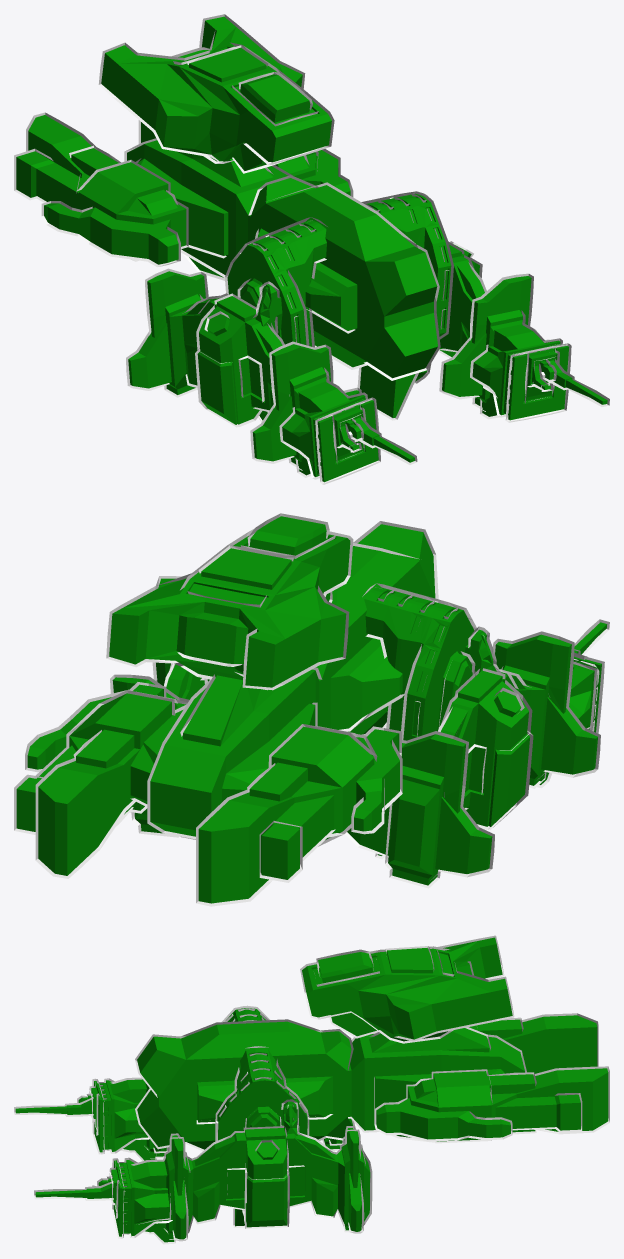
File: ship19_green.glb
3 views of the same model, one above another, from view 1: azimuth 30°, elevation 25°; view 2: azimuth 150°, elevation 25°; view 3: azimuth 270°, elevation 25° (orthographic). The views are drawn at different scales.
Visible parts, largest first — view 1: ME_ship_IndexedFaceSet; view 2: ME_ship_IndexedFaceSet; view 3: ME_ship_IndexedFaceSet.
Boxes of the visible parts, box(x1,y1,x2,y2) form: ME_ship_IndexedFaceSet: box(14, 14, 609, 484); ME_ship_IndexedFaceSet: box(14, 513, 609, 906); ME_ship_IndexedFaceSet: box(14, 935, 609, 1244).
Size of the model in its own units: 274 by 233 by 506.
